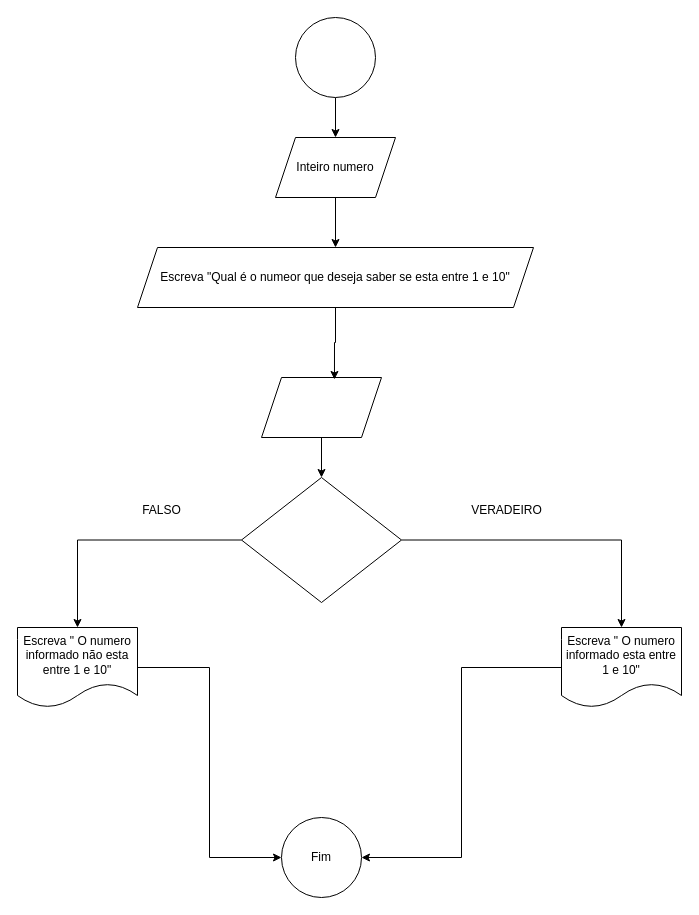
Image size: 699x915. Some labels were removed from this diagram. Here are the shapes that lost their labels. From the top down, the centre of each, then its label:
At (335,57): "Inicio".
At (321,407): "Leia numero".
At (321,539): "Se numero >= 1 e <= 10".
